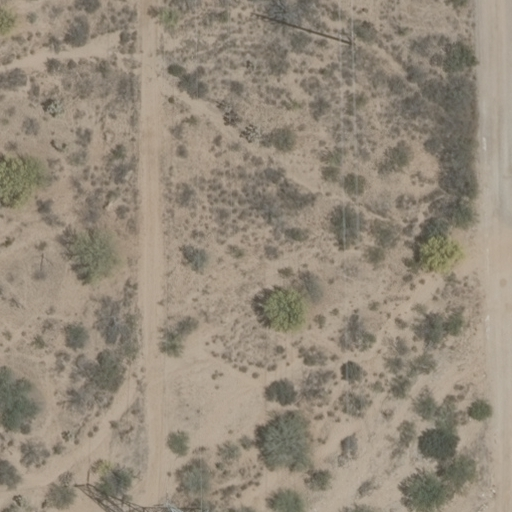DT: (329, 24, 364, 53)
